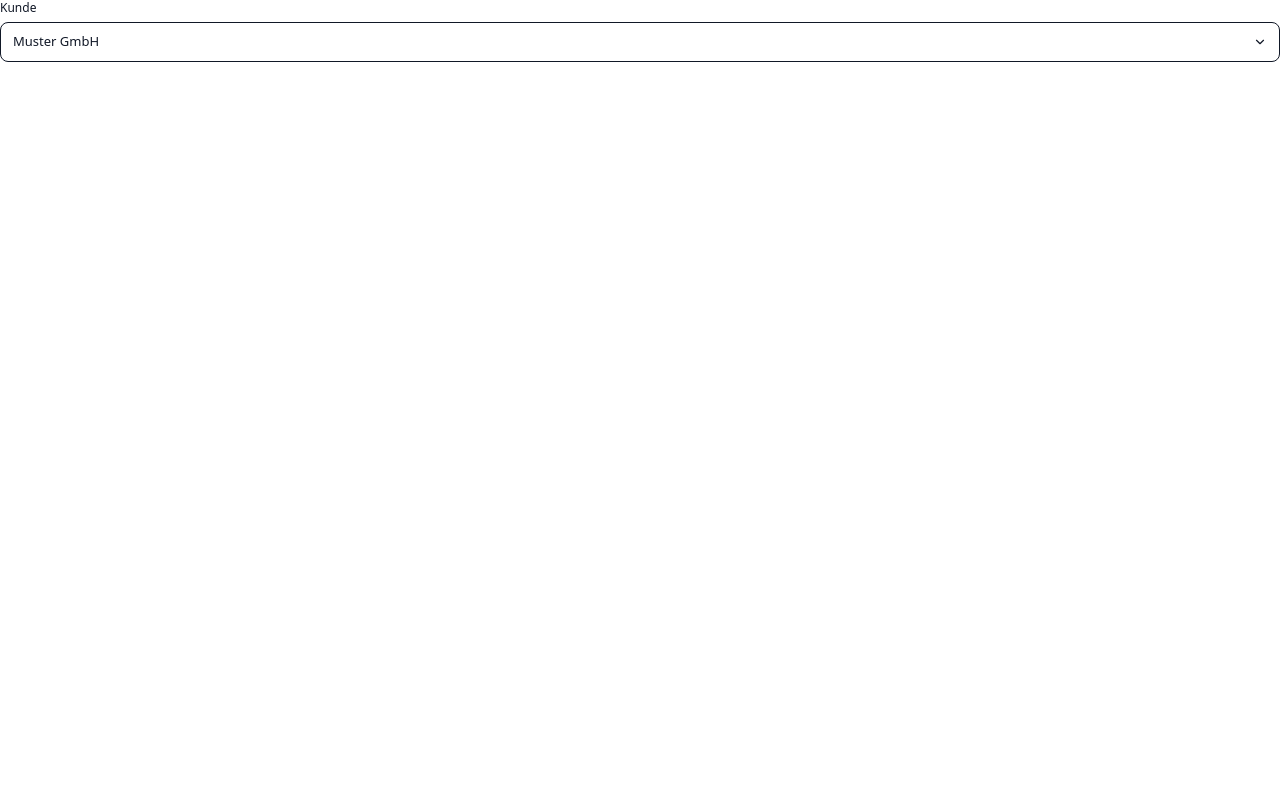
Test: PremiumCombobox › shows an empty message when nothing matches
Click the dropdown named "Kunde": (56, 41) left=0, top=22, right=1279, bottom=62
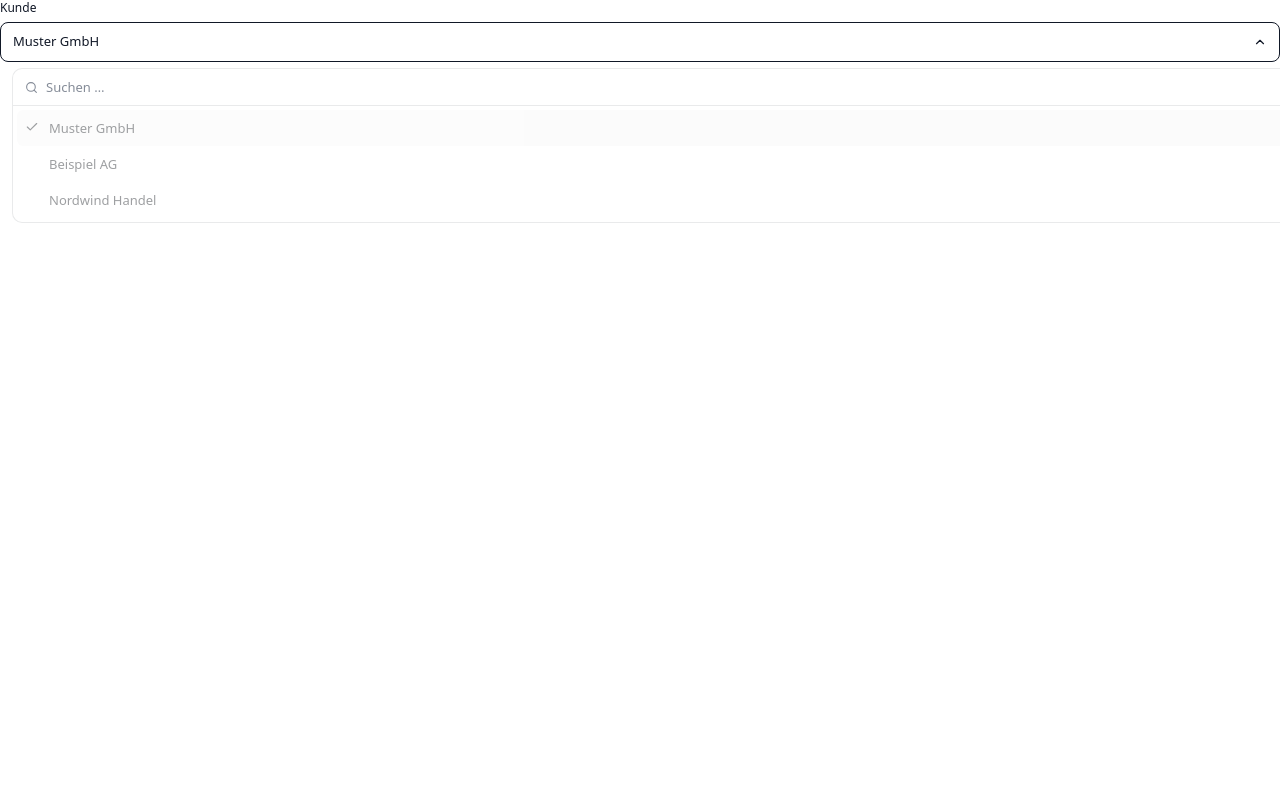
In the dropdown with placeholder "Suchen …": (662, 87) left=46, top=69, right=1279, bottom=105, type "zzzz"
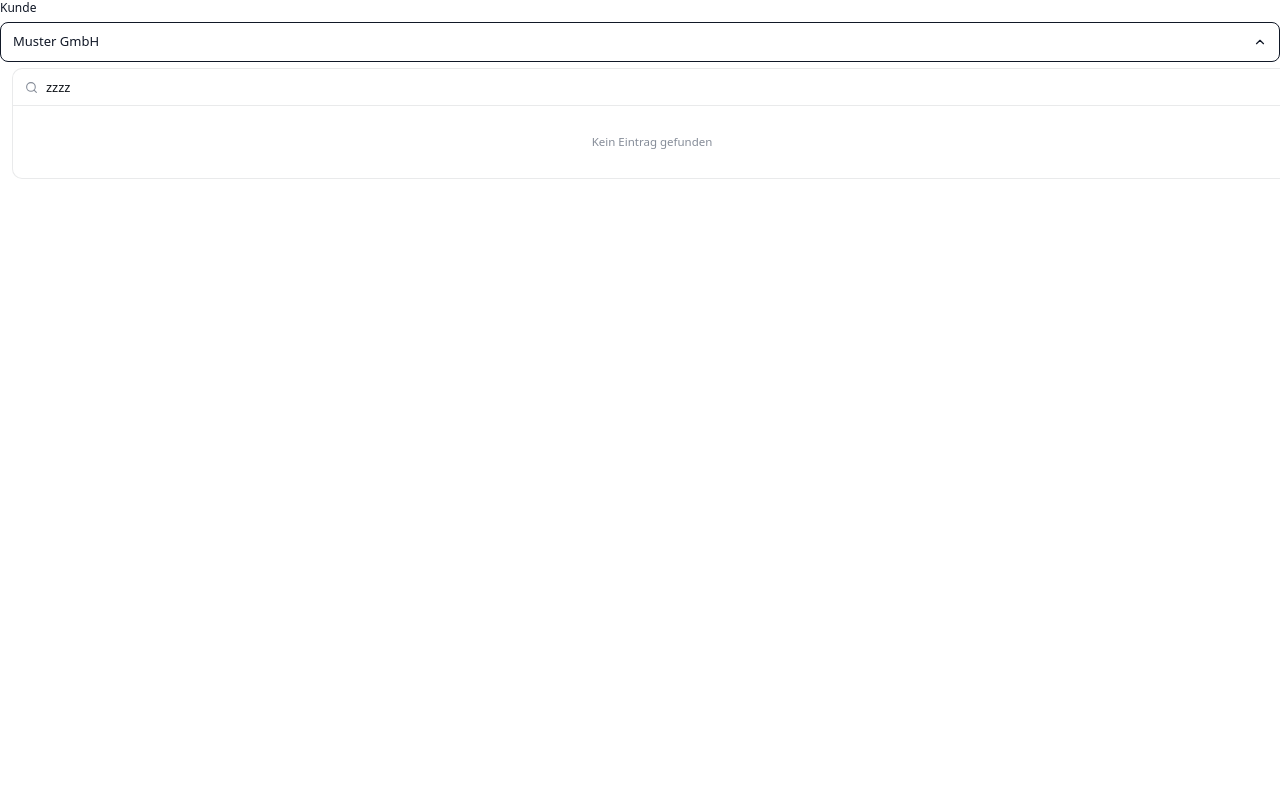
Now the text "Kein Eintrag gefunden" is shown, box left=592, top=134, right=712, bottom=149
